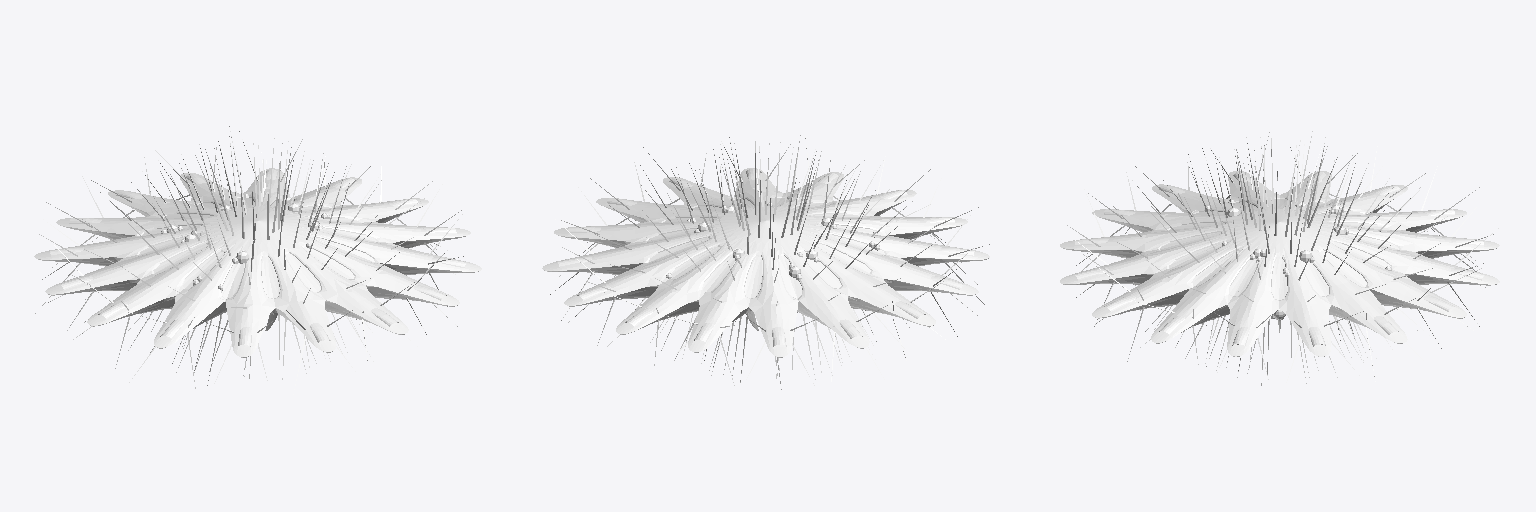
The model's file is Rlaan_Star_Fortress.obj.
3 renders of one model, left to right at view 1: azimuth 30°, elevation 25°; view 2: azimuth 150°, elevation 25°; view 3: azimuth 270°, elevation 25°, orthographic.
Visible parts, largest first — view 1: rlaanstarfortress_Rlaanstarfortress; view 2: rlaanstarfortress_Rlaanstarfortress; view 3: rlaanstarfortress_Rlaanstarfortress.
Boxes of the visible parts, <box> form: rlaanstarfortress_Rlaanstarfortress: <box>34,126,481,394</box>; rlaanstarfortress_Rlaanstarfortress: <box>542,135,989,389</box>; rlaanstarfortress_Rlaanstarfortress: <box>1060,131,1499,385</box>.
Size of the model in its own units: 45.6 by 25.09 by 45.2.